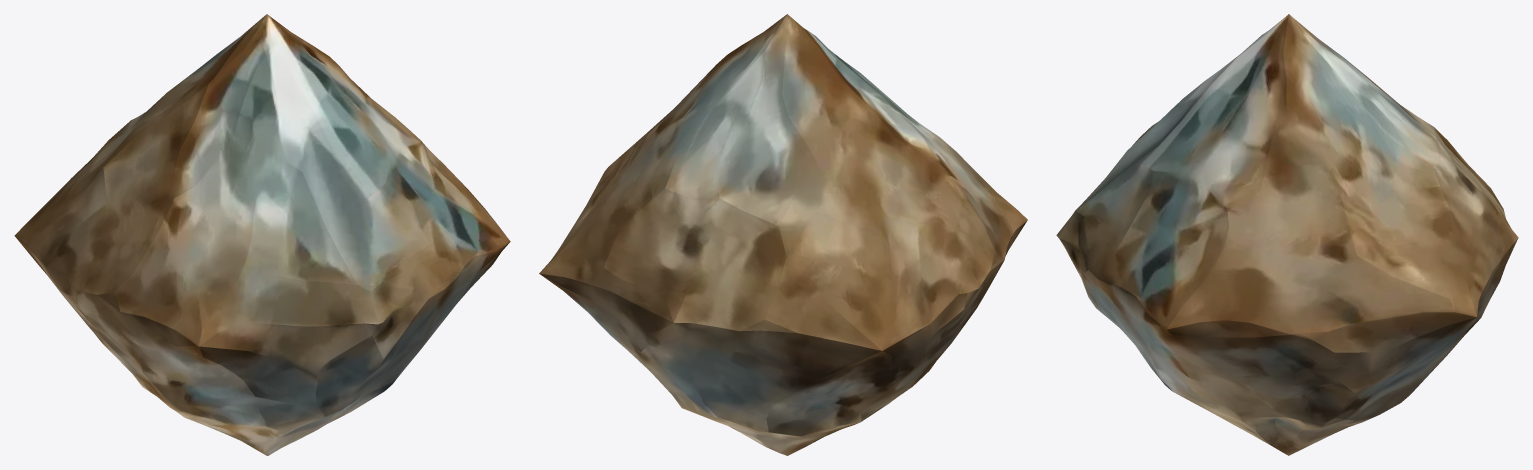
File: m2Crystal.glb
The picture shows the model from 3 angles, left to right: view 1: azimuth 30°, elevation 25°; view 2: azimuth 150°, elevation 25°; view 3: azimuth 270°, elevation 25°; orthographic projection.
Parts seen in each view (by area): view 1: model; view 2: model; view 3: model.
Part boxes in pixels (x1,y1,x2,y2): model: [14, 14, 510, 455]; model: [539, 14, 1027, 455]; model: [1056, 14, 1518, 455].
Bounding box in the file's own units: 1.71 × 1.9 × 1.8.
Materials: 1 (1 with a texture image).
